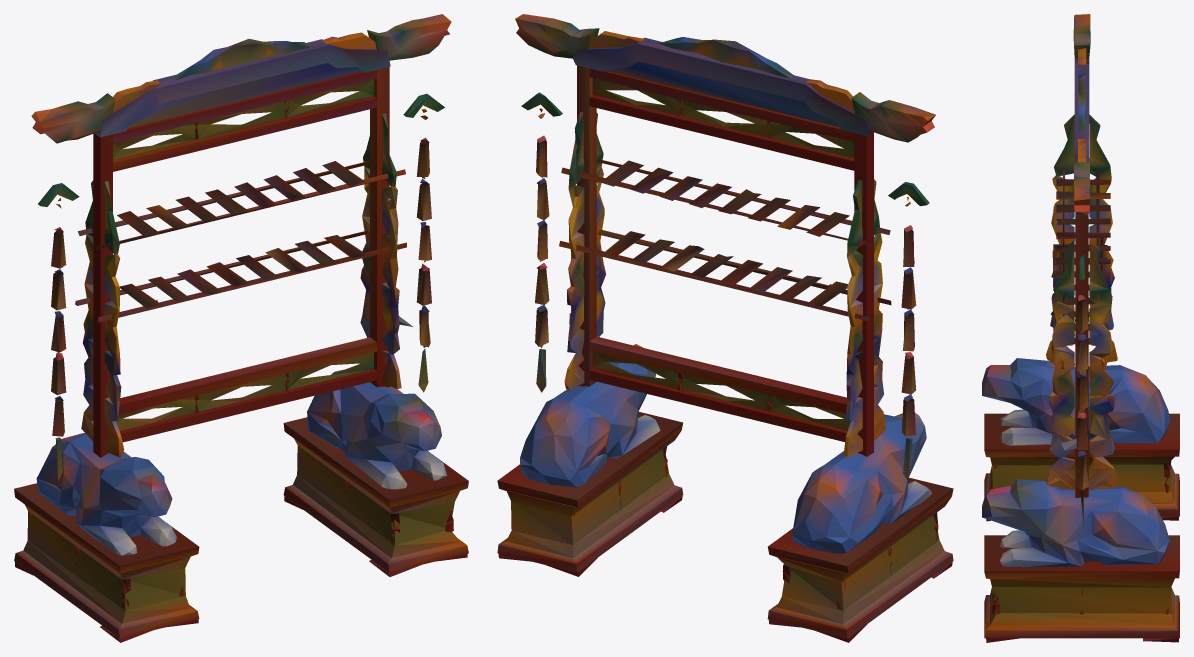
File: banghyang_398d57ec.glb
The picture shows the model from 3 angles, left to right: view 1: azimuth 30°, elevation 25°; view 2: azimuth 150°, elevation 25°; view 3: azimuth 270°, elevation 25°; orthographic projection. The views are drawn at different scales.
Parts seen in each view (by area): view 1: Banghyang:Banghyang_Banghyang:Banghyang_mat_0; view 2: Banghyang:Banghyang_Banghyang:Banghyang_mat_0; view 3: Banghyang:Banghyang_Banghyang:Banghyang_mat_0.
Part boxes in pixels (x1,y1,x2,y2): Banghyang:Banghyang_Banghyang:Banghyang_mat_0: (14, 14, 468, 642); Banghyang:Banghyang_Banghyang:Banghyang_mat_0: (497, 14, 953, 642); Banghyang:Banghyang_Banghyang:Banghyang_mat_0: (982, 14, 1179, 642).
Bounding box in the file's own units: 1.47 × 1.77 × 0.6606.
